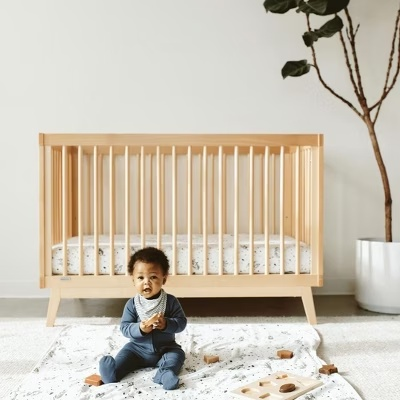baby: (99, 247, 186, 389)
crib: (39, 134, 322, 325)
